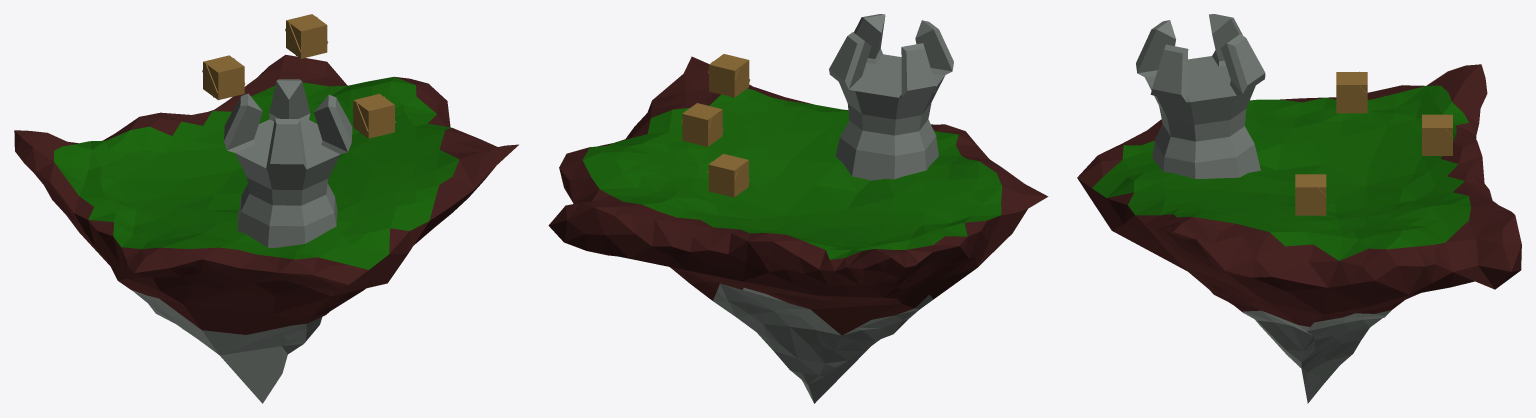
File: basic scene.glb
3 renders of one model, left to right at view 1: azimuth 30°, elevation 25°; view 2: azimuth 150°, elevation 25°; view 3: azimuth 270°, elevation 25°, orthographic. The views are drawn at different scales.
Visible parts, largest first — view 1: ground, tower, box.002, box.003, box.001; view 2: ground, tower, box.001, box.003, box.002; view 3: ground, tower, box.001, box.003, box.002.
Boxes of the visible parts, box(x1,y1,x2,y2) form: ground: box(14, 54, 518, 403); tower: box(224, 79, 352, 247); box.002: box(202, 55, 245, 100); box.003: box(352, 94, 395, 138); box.001: box(285, 14, 328, 58); ground: box(548, 56, 1048, 403); tower: box(829, 14, 953, 180); box.001: box(708, 54, 749, 97); box.003: box(681, 103, 723, 146); box.002: box(707, 154, 749, 197); ground: box(1077, 64, 1521, 403); tower: box(1136, 14, 1265, 178); box.001: box(1336, 71, 1367, 113); box.003: box(1295, 174, 1326, 215); box.002: box(1422, 114, 1452, 156).
Bounding box in the file's own units: 8.8 × 7.37 × 8.24.
